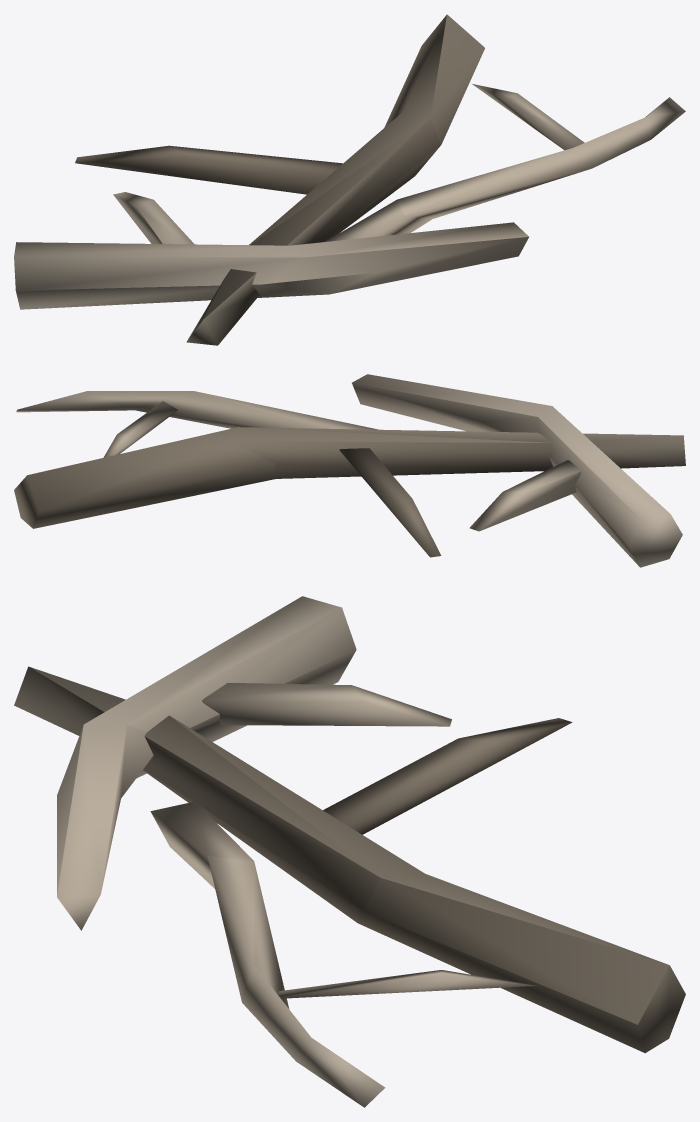
File: shore_gc_twigs_a_lod1.glb
3 views of the same model, one above another, from view 1: azimuth 30°, elevation 25°; view 2: azimuth 150°, elevation 25°; view 3: azimuth 270°, elevation 25° (orthographic). The views are drawn at different scales.
Parts seen in each view (by area): view 1: shore_gc_twigs_a.001; view 2: shore_gc_twigs_a.001; view 3: shore_gc_twigs_a.001.
Boxes of the visible parts, x1,y1,x2,y2 form: shore_gc_twigs_a.001: (14,14,685,345); shore_gc_twigs_a.001: (14,374,685,567); shore_gc_twigs_a.001: (14,596,685,1107).
Size of the model in its own units: 2.77 by 0.241 by 1.71.
